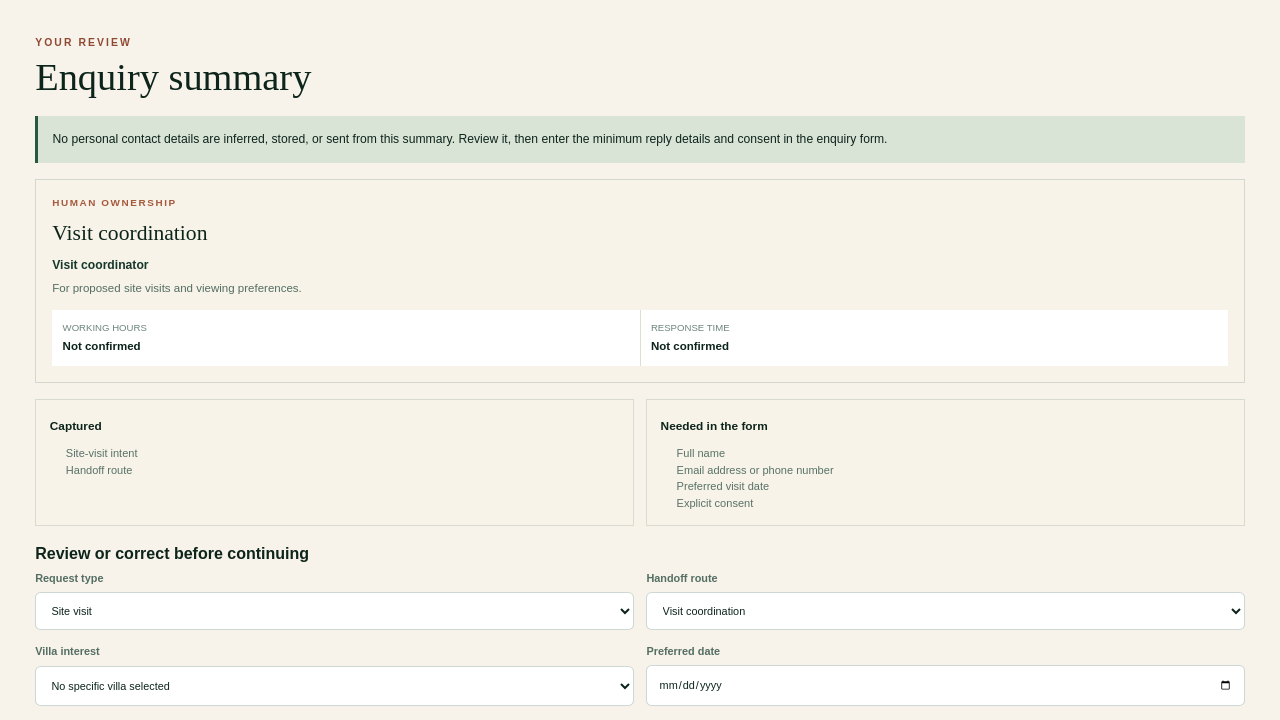
Test case: DynamicPreviewPanel › shows explicit human ownership and lets the user correct the route
Expected: the element named "Handoff route" shows "Visit coordination", [52, 221, 208, 245]
Expected: the element named "Handoff route" shows "Visit coordinator", [52, 258, 149, 272]
Select "Architecture question" in the dropdown labelled "Handoff route" at (946, 611), box [646, 592, 1245, 630]
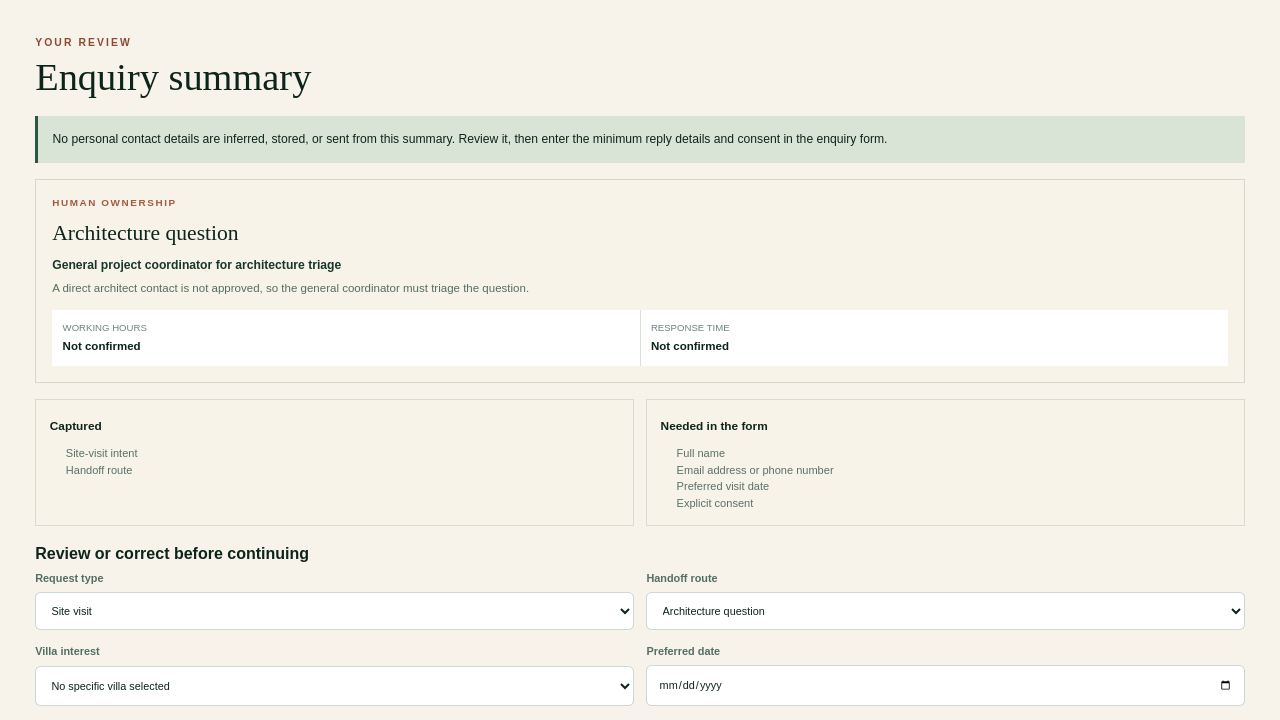
Expected: the heading "Architecture question" is shown, [52, 221, 239, 245]
Expected: the element named "Handoff route" shows "architecture triage", [52, 258, 341, 272]
